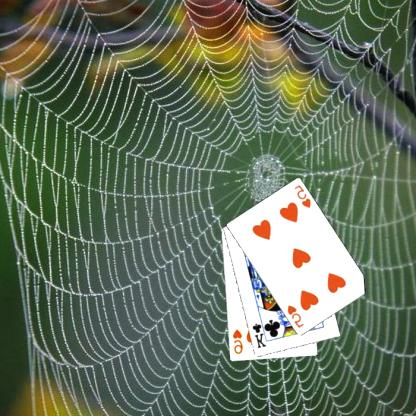5H: (286, 303, 308, 329), (294, 182, 314, 210)
9H: (232, 327, 245, 355)
KC: (252, 317, 270, 349)
